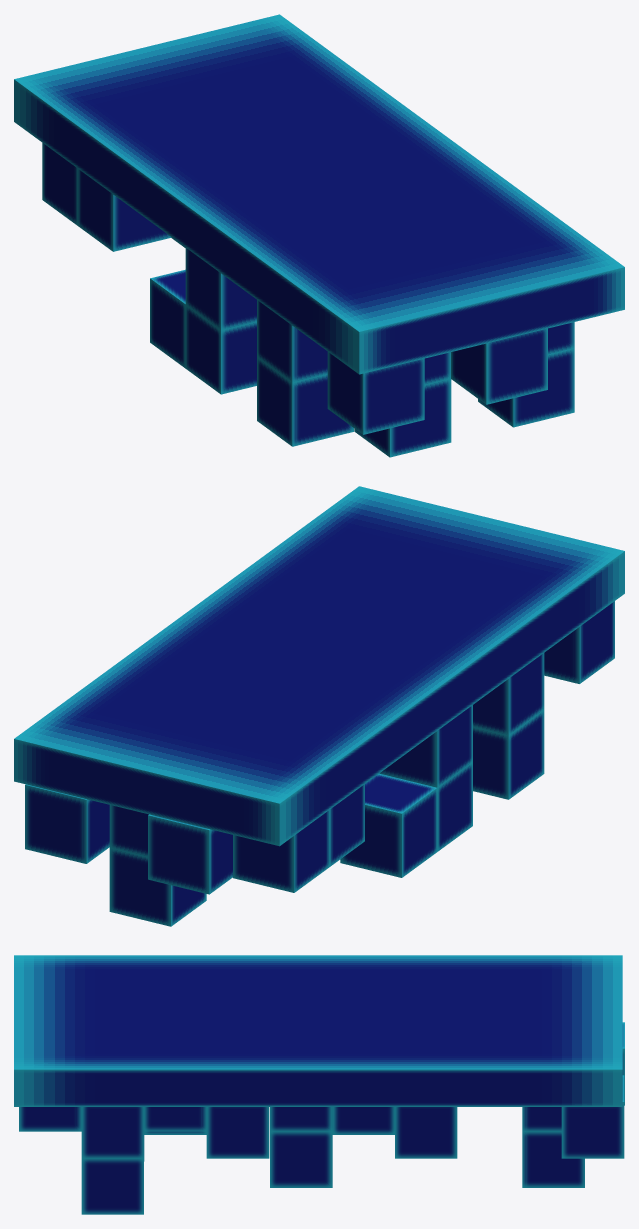
The model's file is move.fbx.
3 views of the same model, one above another, from view 1: azimuth 30°, elevation 25°; view 2: azimuth 150°, elevation 25°; view 3: azimuth 270°, elevation 25° (orthographic). The views are drawn at different scales.
Parts seen in each view (by area): view 1: mesh; view 2: mesh; view 3: mesh.
Boxes of the visible parts, x1,y1,x2,y2 form: mesh: [14, 14, 624, 457]; mesh: [14, 486, 624, 926]; mesh: [14, 955, 624, 1214].
Bounding box in the file's own units: 200 × 123 × 452.
Materials: 1 (1 with a texture image).
